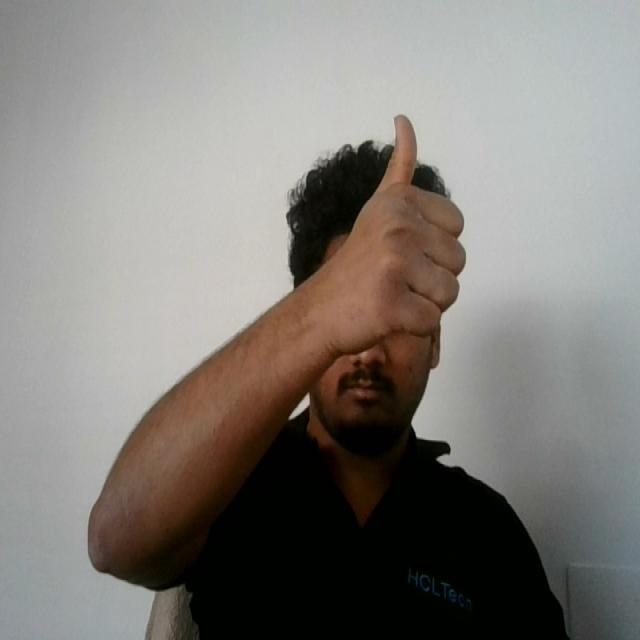Yes: (329, 105, 475, 360)
